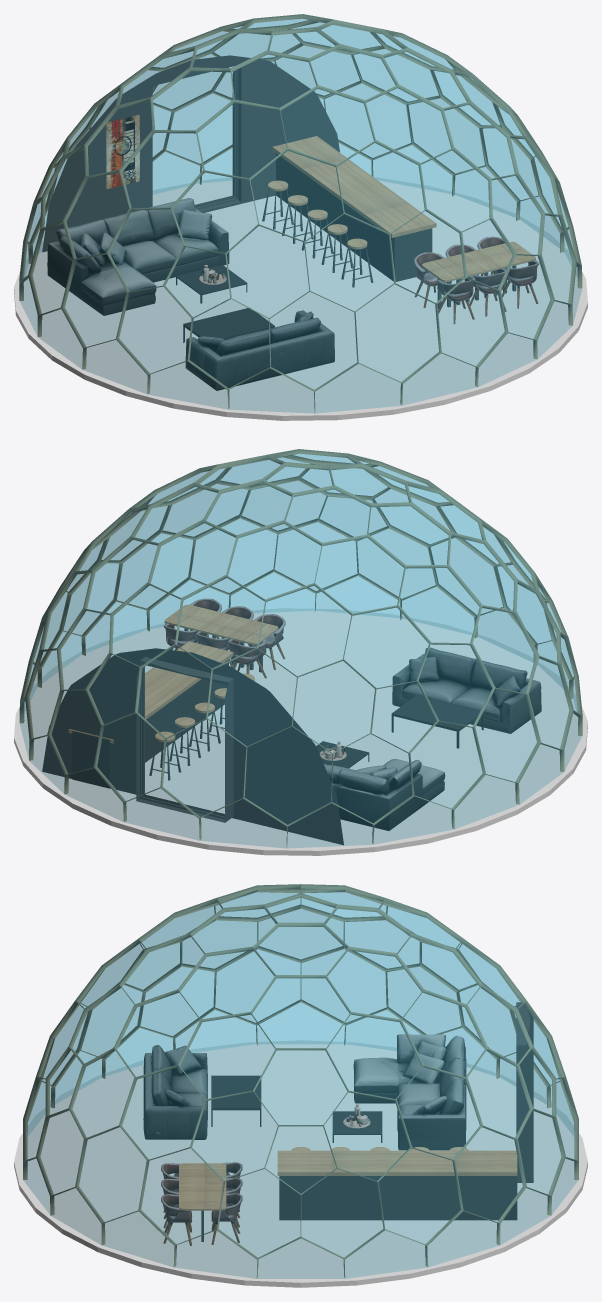
Rendered from LivingRoom.glb.
3 renders of one model, top to bottom at view 1: azimuth 30°, elevation 25°; view 2: azimuth 150°, elevation 25°; view 3: azimuth 270°, elevation 25°, orthographic.
Parts seen in each view (by area): view 1: Dome_Panels, Base_Platform, Dome_Frame.001, Plane.003, node_0.002_Material.007_0, node_0_Material.005_0, Cube.004, Cube.003, Cylinder, node_0.005_Material.010_0, Cube.005, Plane.004 (+4 smaller); view 2: Dome_Panels, Base_Platform, Dome_Frame.001, Plane.003, node_0_Material.005_0, node_0.002_Material.007_0, Cube.003, Cube.005, Cube.004, Cube.002, Cylinder, Plane.005 (+3 smaller); view 3: Dome_Panels, Base_Platform, Dome_Frame.001, Cube.003, node_0.002_Material.007_0, Cube.004, node_0_Material.005_0, Plane.003, Cube.005, Cube.002, node_0.005_Material.010_0, node_0.004_Material.010_0 (+1 smaller).
Boxes of the visible parts, bbox=[...] form: Dome_Panels: bbox=[19, 14, 581, 413]; Base_Platform: bbox=[14, 177, 587, 420]; Dome_Frame.001: bbox=[19, 14, 582, 412]; Plane.003: bbox=[42, 55, 339, 252]; node_0.002_Material.007_0: bbox=[47, 198, 229, 315]; node_0_Material.005_0: bbox=[185, 310, 334, 390]; Cube.004: bbox=[272, 136, 436, 237]; Cube.003: bbox=[276, 153, 432, 281]; Cylinder: bbox=[262, 180, 373, 287]; node_0.005_Material.010_0: bbox=[437, 260, 539, 324]; Cube.005: bbox=[422, 241, 535, 282]; Plane.004: bbox=[106, 114, 139, 189]; Dome_Panels: bbox=[20, 449, 582, 848]; Base_Platform: bbox=[14, 608, 587, 855]; Dome_Frame.001: bbox=[19, 449, 582, 847]; Plane.003: bbox=[42, 648, 343, 845]; node_0_Material.005_0: bbox=[392, 647, 541, 733]; node_0.002_Material.007_0: bbox=[324, 759, 445, 831]; Cube.003: bbox=[72, 659, 228, 788]; Cube.005: bbox=[164, 604, 278, 644]; Cube.004: bbox=[68, 641, 233, 743]; Cube.002: bbox=[391, 695, 483, 748]; Cylinder: bbox=[149, 673, 254, 780]; Plane.005: bbox=[140, 659, 230, 819]; Dome_Panels: bbox=[23, 884, 578, 1278]; Base_Platform: bbox=[14, 1040, 587, 1287]; Dome_Frame.001: bbox=[23, 884, 578, 1278]; Cube.003: bbox=[279, 1176, 517, 1220]; node_0.002_Material.007_0: bbox=[353, 1034, 466, 1150]; Cube.004: bbox=[277, 1150, 517, 1175]; node_0_Material.005_0: bbox=[143, 1045, 207, 1139]; Plane.003: bbox=[516, 1002, 533, 1182]; Cube.005: bbox=[179, 1163, 226, 1210]; Cube.002: bbox=[211, 1075, 261, 1126]; node_0.005_Material.010_0: bbox=[161, 1163, 192, 1245]; node_0.004_Material.010_0: bbox=[211, 1162, 242, 1244].
Size of the model in its own units: 10 by 4.94 by 10.
13 materials, 7 textured.
